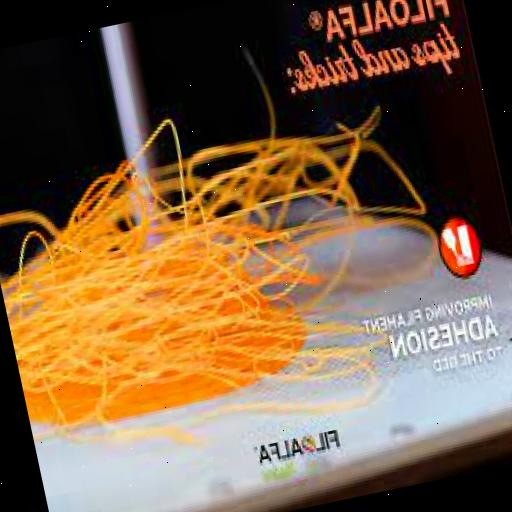spaghetti: (20, 111, 408, 431)
